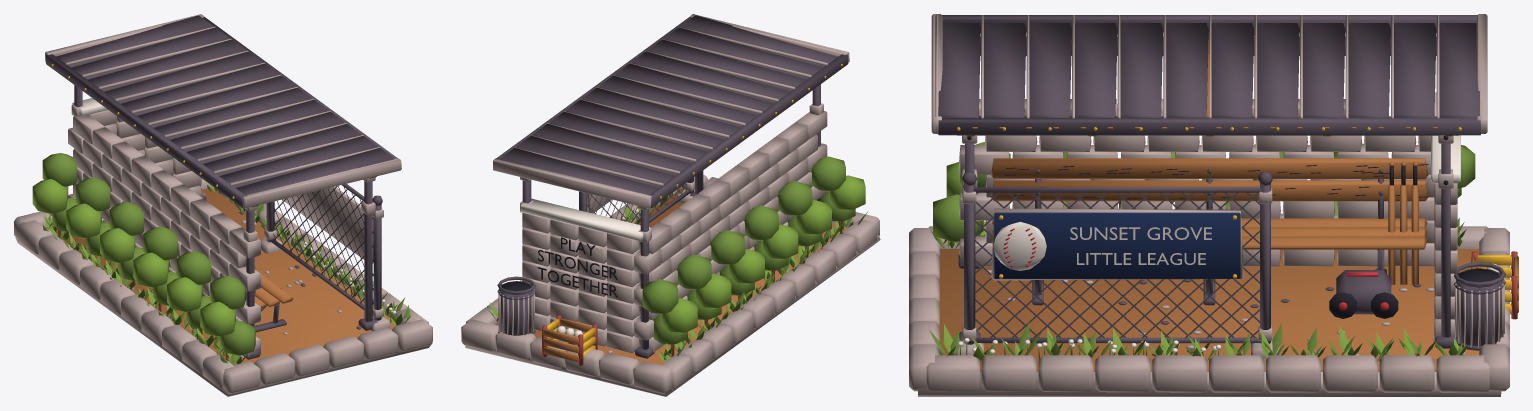
File: bld.dugout.lod2.glb
The picture shows the model from 3 angles, left to right: view 1: azimuth 30°, elevation 25°; view 2: azimuth 150°, elevation 25°; view 3: azimuth 270°, elevation 25°; orthographic projection. The views are drawn at different scales.
Parts seen in each view (by area): view 1: object 3, roof, interior; view 2: object 3, roof; view 3: object 3, roof, interior.
Part boxes in pixels (box(x1,y1,x2,y2)): object 3: box(14, 85, 432, 396); roof: box(45, 14, 401, 208); interior: box(254, 266, 293, 332); object 3: box(461, 84, 880, 396); roof: box(493, 14, 849, 208); object 3: box(909, 92, 1518, 396); roof: box(931, 14, 1487, 136); interior: box(991, 158, 1428, 318).
Size of the model in its own units: 3.74 by 3.23 by 6.76.
